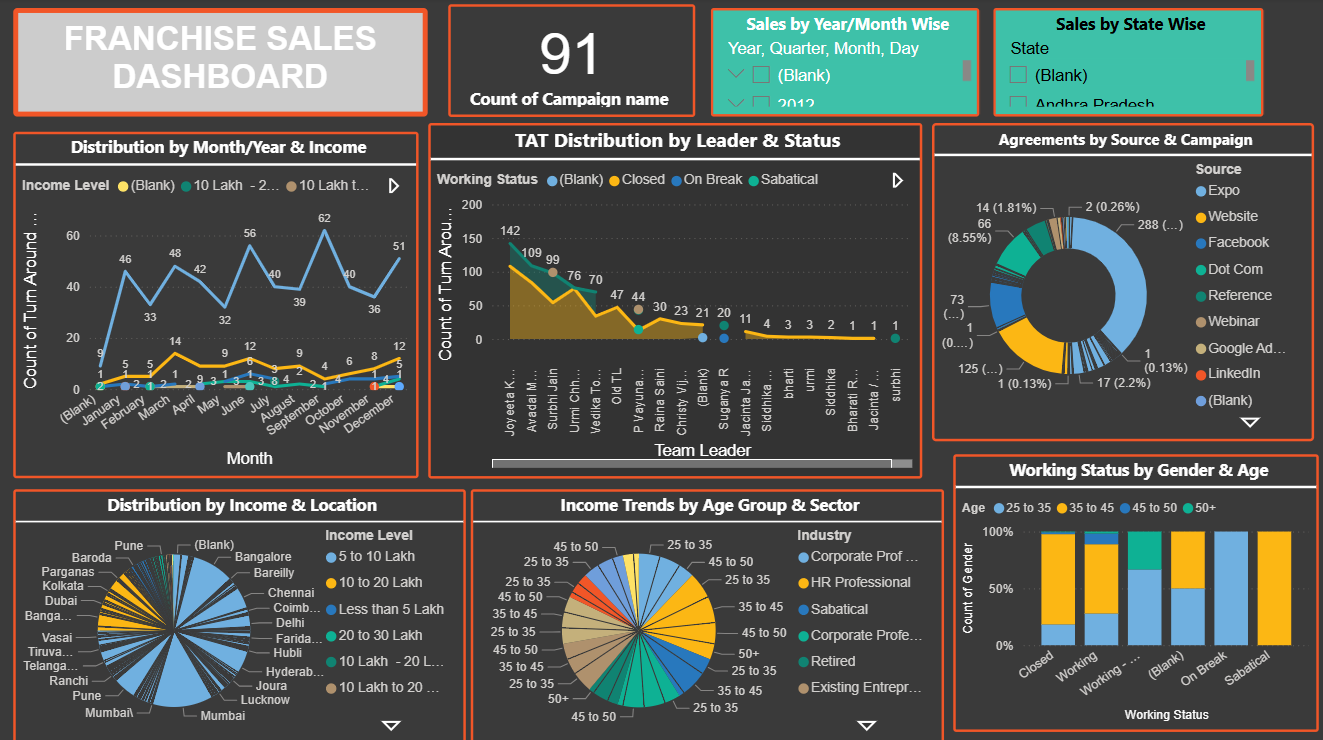

This screenshot's page, from the dashboard's own definition file:
{"tool":"powerbi","page":{"name":"Page 1","canvas":[1280,720],"ordinal":0},"visuals":[{"type":"pieChart","title":"Distribution by Income & Location","fields":{"Category":["Sheet1.Income Level"],"Series":["Sheet1.Location"],"Y":["Sheet1.Education"]},"box":[15.7,474.1,436.7,246.1],"z":0},{"type":"stackedAreaChart","title":"TAT Distribution by Leader & Status","fields":{"Category":["Sheet1.Team Leader"],"Series":["Sheet1.Working Status Hierarchy.Working Status"],"Y":["Sheet1.Turn Around Time"]},"box":[416,121,476.5,343.2],"z":1000},{"type":"donutChart","title":"Agreements by Source & Campaign","fields":{"Category":["Sheet1.Source"],"Y":["Sheet1.Name on Agreement"],"Series":["Sheet1.Campaign name "]},"box":[902.5,121,369.1,307.4],"z":2000},{"type":"pieChart","title":"Income Trends by Age Group & Sector","fields":{"Category":["Sheet1.Industry"],"Y":["Sheet1.Income Level"],"Series":["Sheet1.Age"]},"box":[456.8,474.1,456.8,245.7],"z":3000},{"type":"hundredPercentStackedColumnChart","title":"Working Status by Gender & Age","fields":{"Series":["Sheet1.Age"],"Category":["Sheet1.Working Status Hierarchy.Working Status"],"Y":["Sheet1.Gender"]},"box":[923.5,440.7,353.1,267.9],"z":4000},{"type":"slicer","title":"Sales by Year/Month Wise","fields":{"Values":["Sheet1.Date of Agreement .Variation.Date Hierarchy.Year","Sheet1.Date of Agreement .Variation.Date Hierarchy.Quarter","Sheet1.Date of Agreement .Variation.Date Hierarchy.Month","Sheet1.Date of Agreement .Variation.Date Hierarchy.Day"]},"box":[688.9,9.9,259.3,104.9],"z":5000},{"type":"slicer","title":"Sales by State Wise","fields":{"Values":["Sheet1.State"]},"box":[961.7,9.9,260.5,104.9],"z":6000},{"type":"card","fields":{"Values":["Sheet1.Campaign name "]},"box":[435.1,6,238.4,108.5],"z":7000},{"type":"textbox","box":[16,9.9,400,104.9],"z":8000},{"type":"lineChart","title":"Distribution by Month/Year & Income","fields":{"Y":["Sheet1.Turn Around Time"],"Series":["Sheet1.Income Level"],"Category":["Sheet1.Date of Agreement .Variation.Date Hierarchy.Month"]},"box":[16,129.6,391.4,334.6],"z":9000}]}

Visuals, with their boxes in screenshot pixels (x1, y1, x2, y2), scaled from the page's 1280x720 canvas onto the 1323x740 screenshot:
"Distribution by Income & Location" pieChart: 16,487,468,739
"TAT Distribution by Leader & Status" stackedAreaChart: 430,124,922,477
"Agreements by Source & Campaign" donutChart: 933,124,1314,440
"Income Trends by Age Group & Sector" pieChart: 472,487,944,739
"Working Status by Gender & Age" hundredPercentStackedColumnChart: 955,453,1319,728
"Sales by Year/Month Wise" slicer: 712,10,980,118
"Sales by State Wise" slicer: 994,10,1263,118
card - Sheet1.Campaign name : 450,6,696,118
textbox: 17,10,430,118
"Distribution by Month/Year & Income" lineChart: 17,133,421,477
